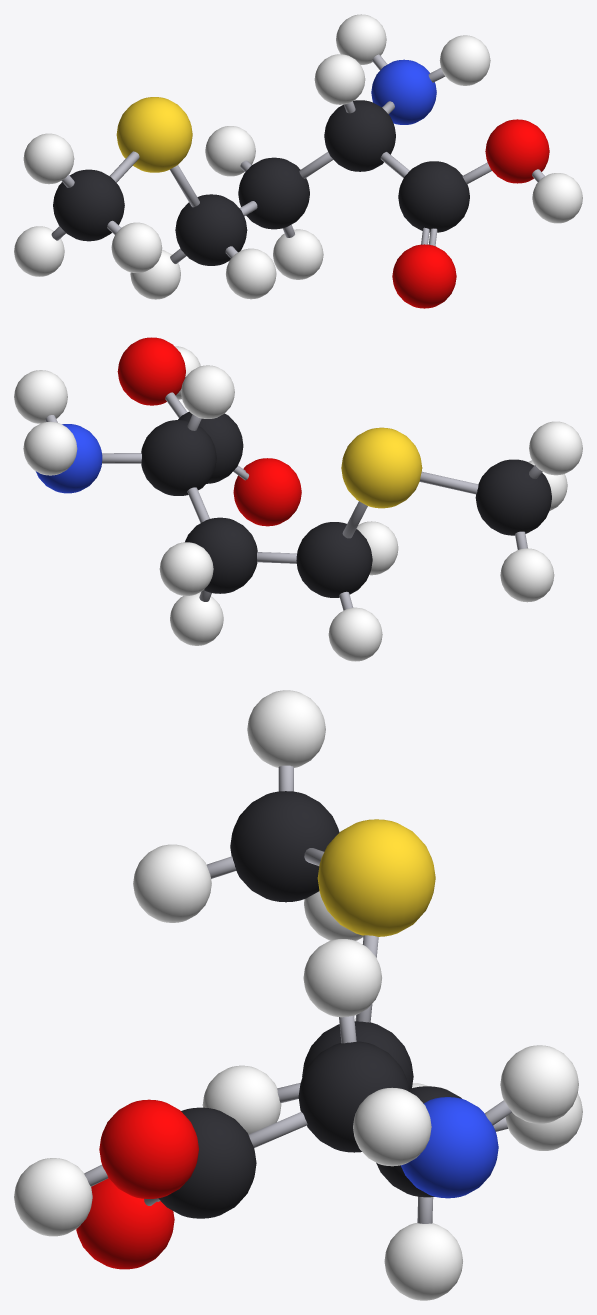
The model's file is methionine.glb.
3 views of the same model, one above another, from view 1: azimuth 30°, elevation 25°; view 2: azimuth 150°, elevation 25°; view 3: azimuth 270°, elevation 25° (orthographic). The views are drawn at different scales.
Visible parts, largest first — view 1: S1, C6, C4, C3, C0, C2, O7, O8, N5, H16, H19, H17 (+9 smaller); view 2: S1, C4, C0, C2, O8, O7, C3, H13, H10, H16, H9, H14 (+10 smaller); view 3: S1, C0, O8, C4, N5, C6, O7, H18, H11, H17, H16, H19 (+8 smaller).
Part boxes in pixels (x1,y1,x2,y2): S1: (116,97,192,172); C6: (398,161,469,232); C4: (324,100,395,171); C3: (238,157,309,229); C0: (53,169,124,241); C2: (175,194,247,265); O7: (392,244,456,308); O8: (485,119,549,183); N5: (371,59,436,124); H16: (314,54,365,104); H19: (532,173,582,223); H17: (439,35,490,85); S1: (341,427,422,508); C4: (141,420,216,495); C0: (475,459,551,535); C2: (296,522,372,597); O8: (117,337,185,405); O7: (233,458,301,526); C3: (185,517,257,593); H13: (328,607,382,661); H10: (529,421,582,475); H16: (181,365,234,418); H9: (500,548,554,602); H14: (159,542,213,595); S1: (317,819,435,936); C0: (230,791,339,902); O8: (99,1099,198,1198); C4: (298,1041,409,1152); N5: (400,1097,498,1198); C6: (158,1107,256,1218); O7: (76,1178,174,1269); H18: (500,1045,578,1123); H11: (133,844,211,922); H17: (353,1087,431,1166); H16: (303,939,381,1017); H19: (14,1158,92,1236).
Size of the model in its own units: 8.09 by 3.85 by 5.2.
